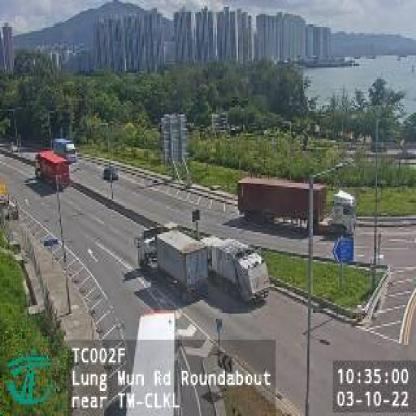Car: (104, 166, 117, 178)
Truck: (237, 175, 355, 234), (135, 227, 207, 291), (200, 236, 268, 300), (35, 153, 69, 187), (54, 139, 76, 161)
